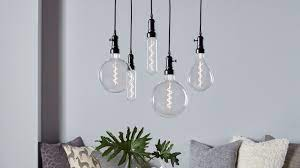bulb: (92, 39, 133, 101), (152, 74, 192, 120), (185, 47, 221, 96), (141, 31, 162, 78), (124, 64, 141, 106)
